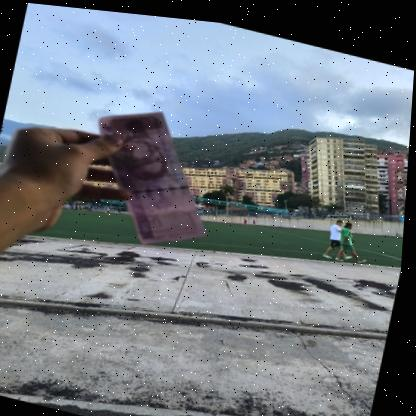one_hundred-back-vef: (77, 91, 234, 255)
